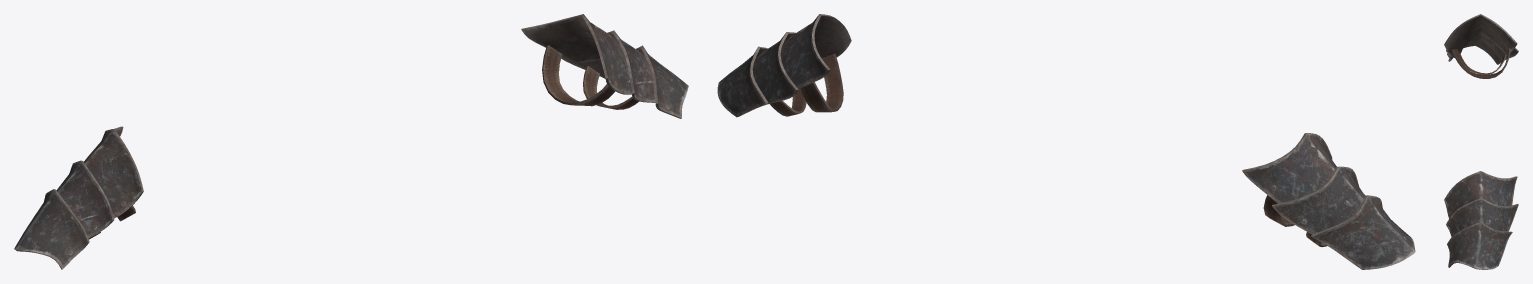
Rendered from sk_dg_uruk_bracer_heavy_b.fbx.
3 views of the same model, side by side, from view 1: azimuth 30°, elevation 25°; view 2: azimuth 150°, elevation 25°; view 3: azimuth 270°, elevation 25° (orthographic). The views are drawn at different scales.
Visible parts, largest first — view 1: sk_dg_uruk_bracer_heavy_b; view 2: sk_dg_uruk_bracer_heavy_b; view 3: sk_dg_uruk_bracer_heavy_b.
Boxes of the visible parts, left/top/right/bottom form: sk_dg_uruk_bracer_heavy_b: left=14, top=14, right=688, bottom=269; sk_dg_uruk_bracer_heavy_b: left=717, top=14, right=1415, bottom=269; sk_dg_uruk_bracer_heavy_b: left=1444, top=14, right=1518, bottom=269.
Size of the model in its own units: 1.48 by 0.2098 by 0.2246.
Materials: 1 (1 with a texture image).
